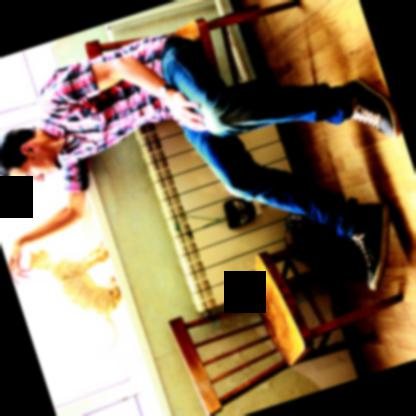backpack: (283, 210, 368, 284)
